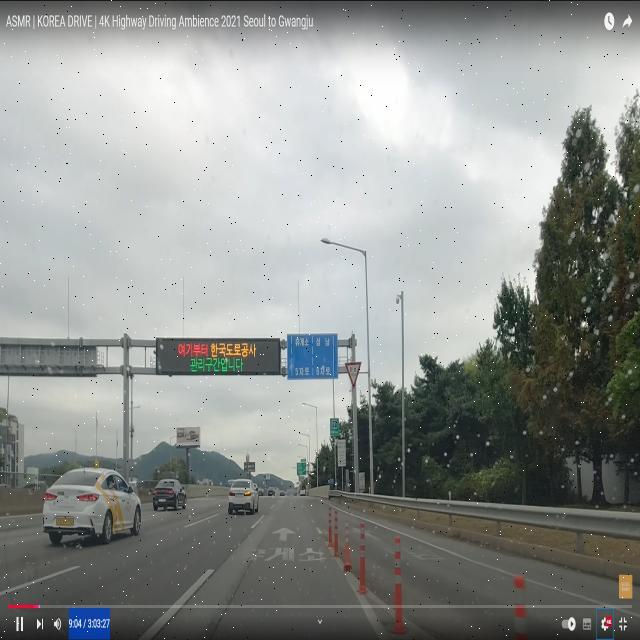forward: (228, 515, 334, 547)
